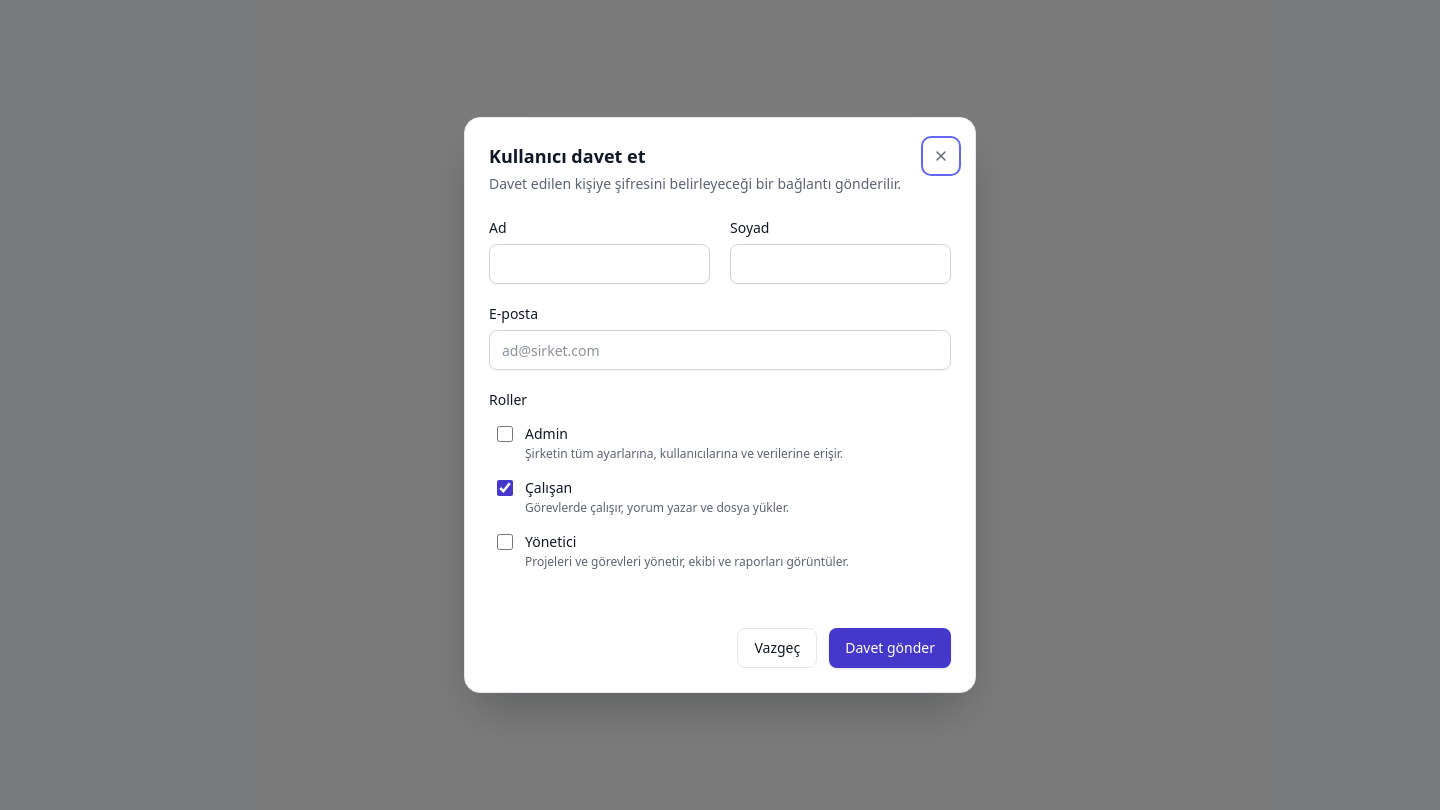
InviteUserDialog › shows a taken email address on the email field
The image size is (1440, 810).
Type "Ayşe" into the field labelled "Ad".
click(600, 264); type("Ayşe")  # box [489,244,710,284]
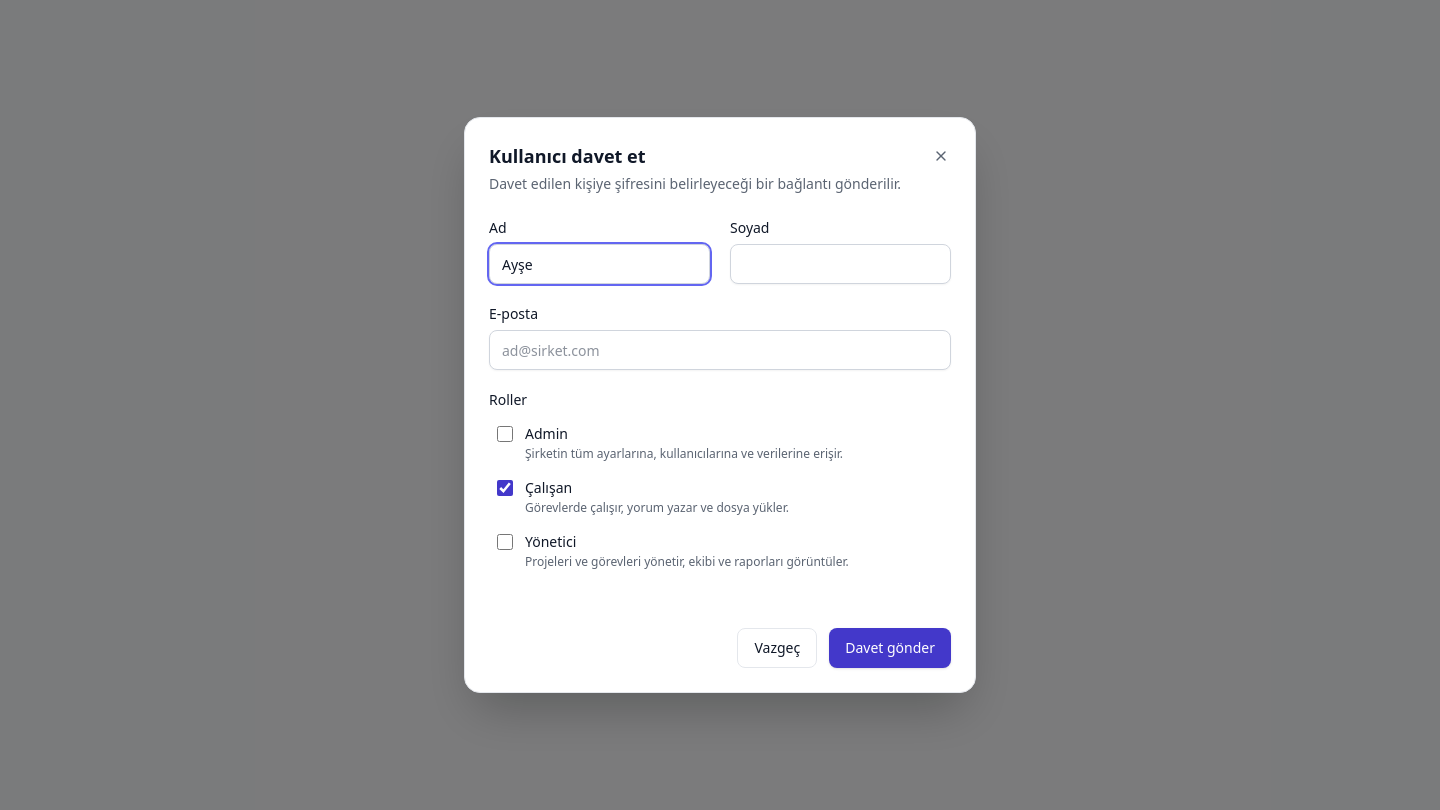
Type "Yılmaz" into the field labelled "Soyad".
click(840, 264); type("Yılmaz")  # box [730,244,951,284]
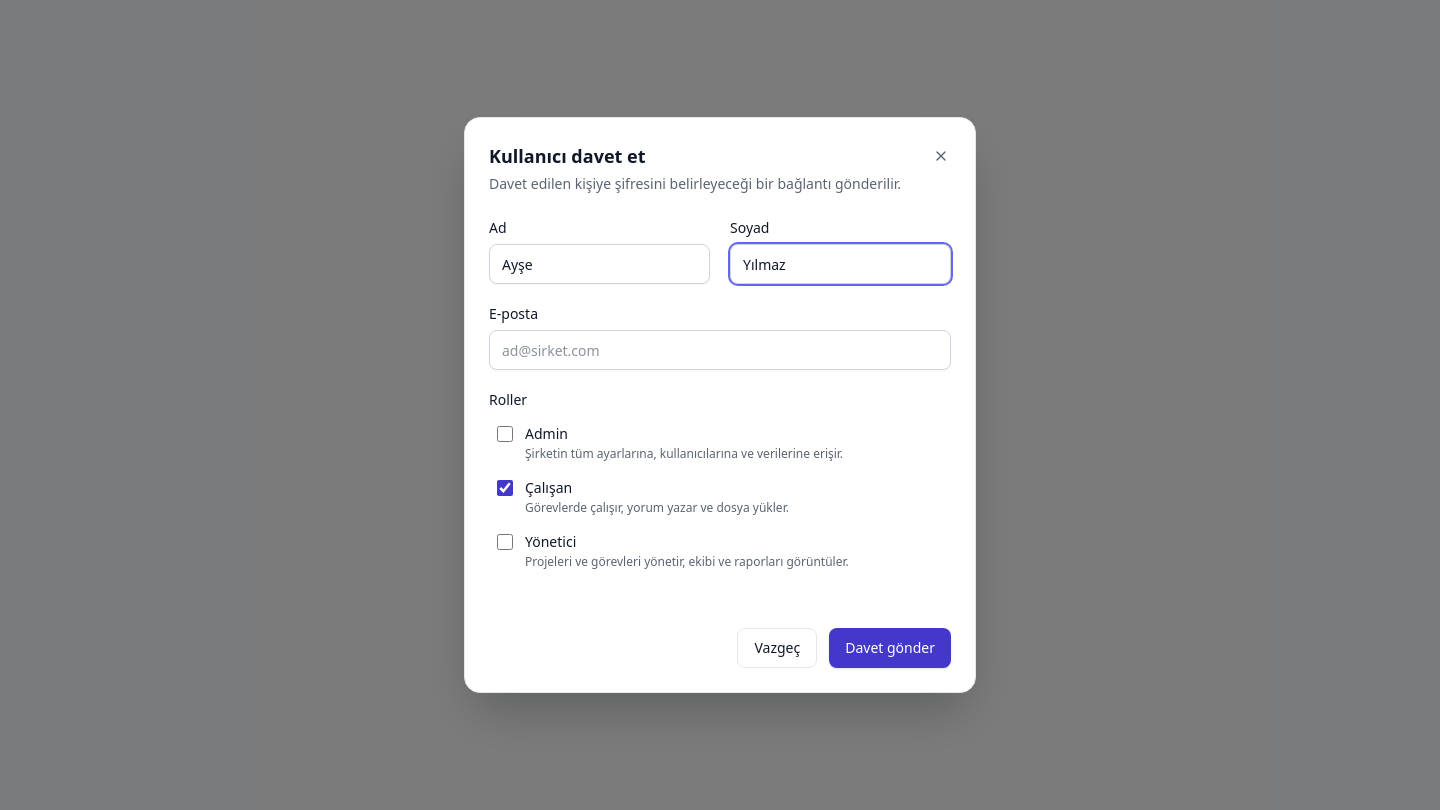
Type "ayse@abc.com" into the field labelled "E-posta".
click(720, 350); type("ayse@abc.com")  # box [489,330,951,370]
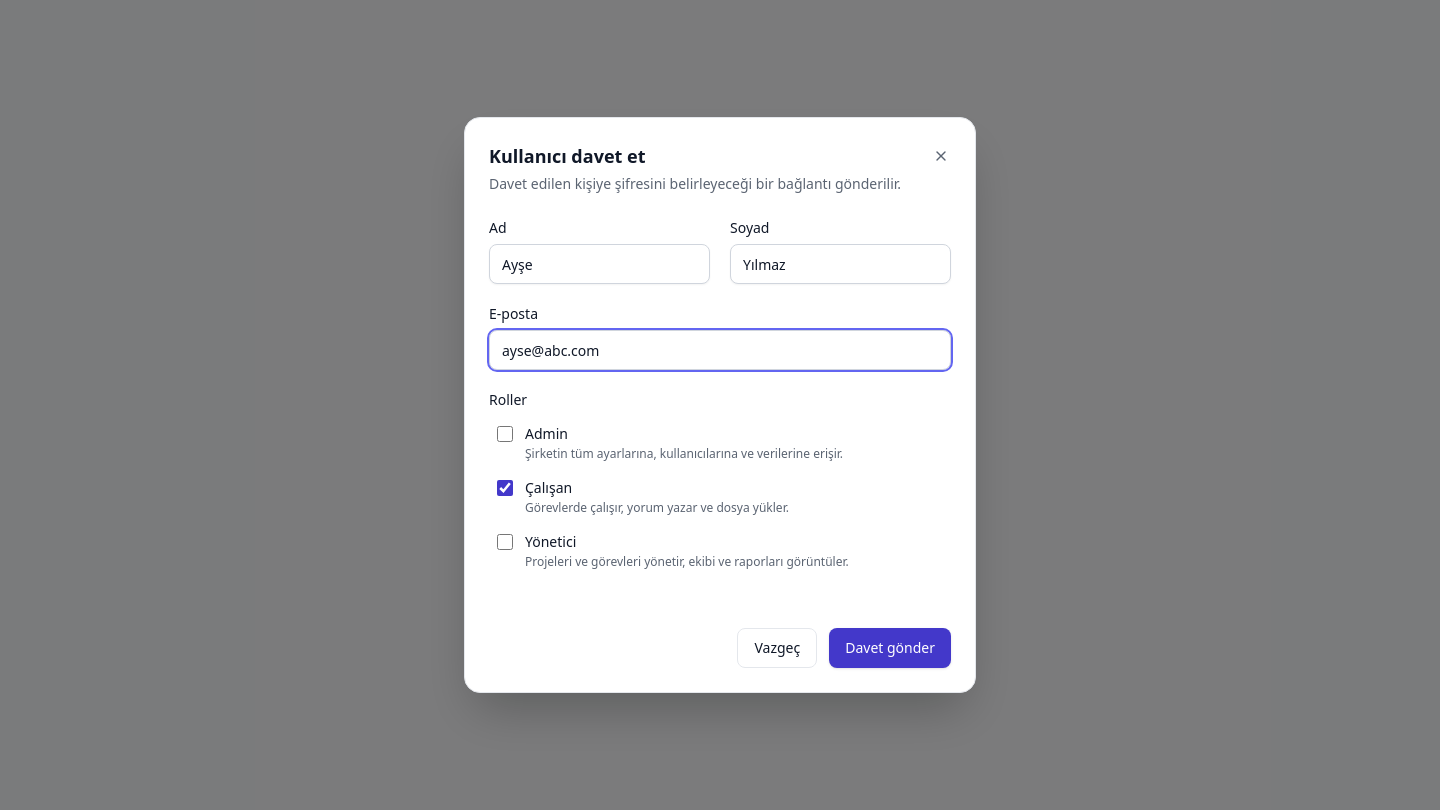
Click the button "Davet gönder".
click(890, 648)  # box [829,628,951,668]
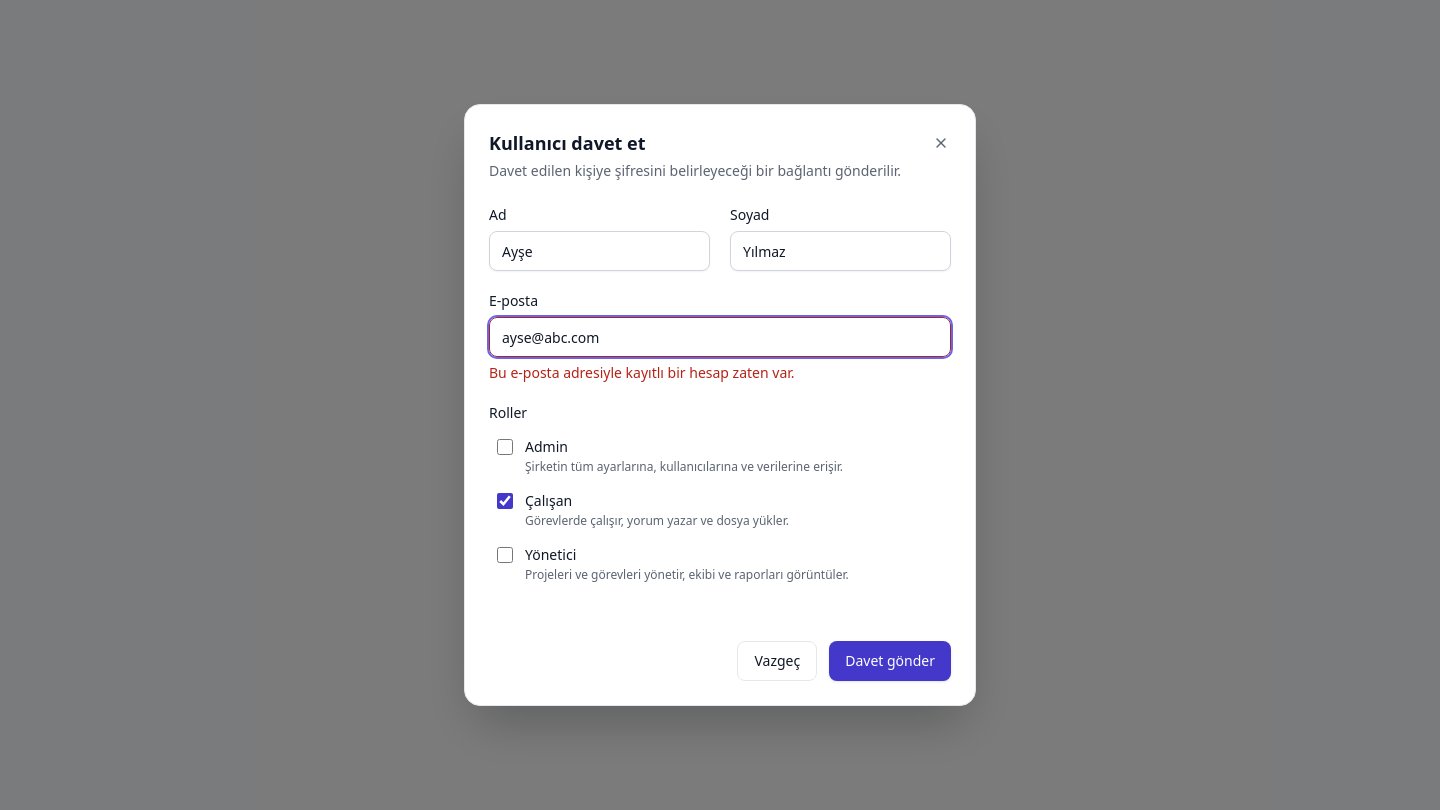
Result: the text "Bu e-posta adresiyle kayıtlı bir hesap zaten var." is shown at [489,363,794,382]
